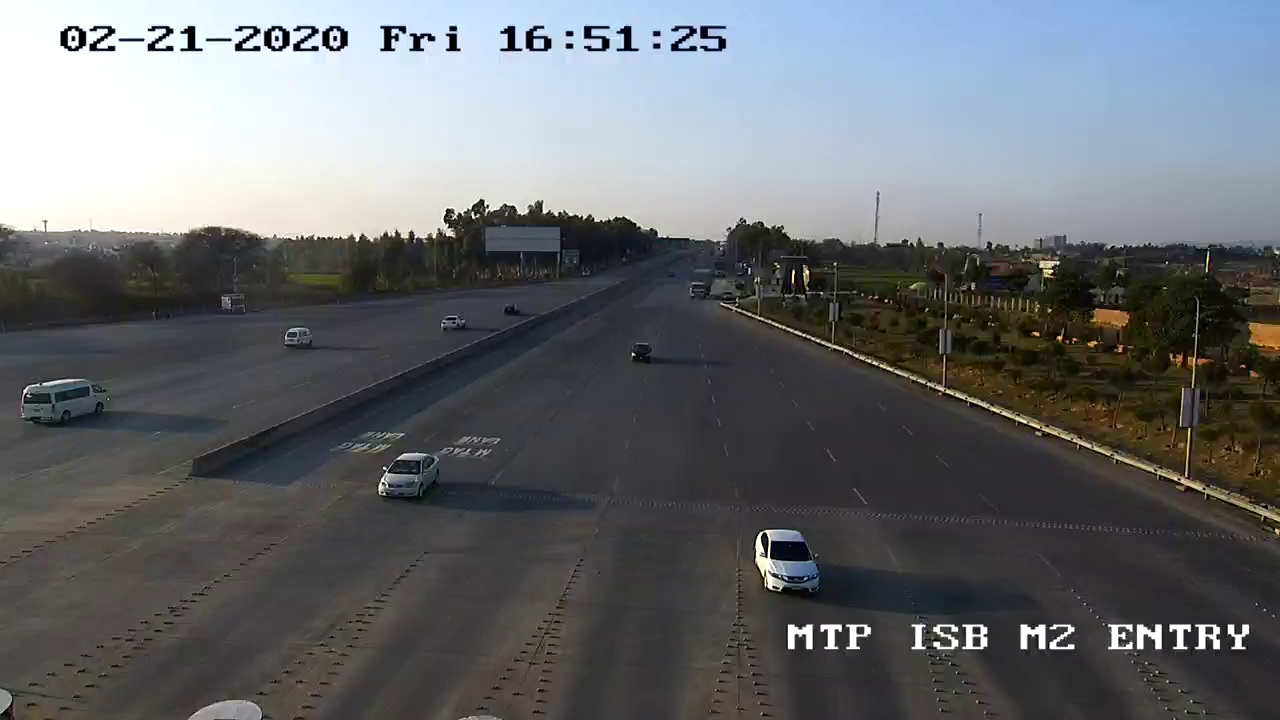f1: (739, 523, 829, 606), (368, 444, 448, 509)
